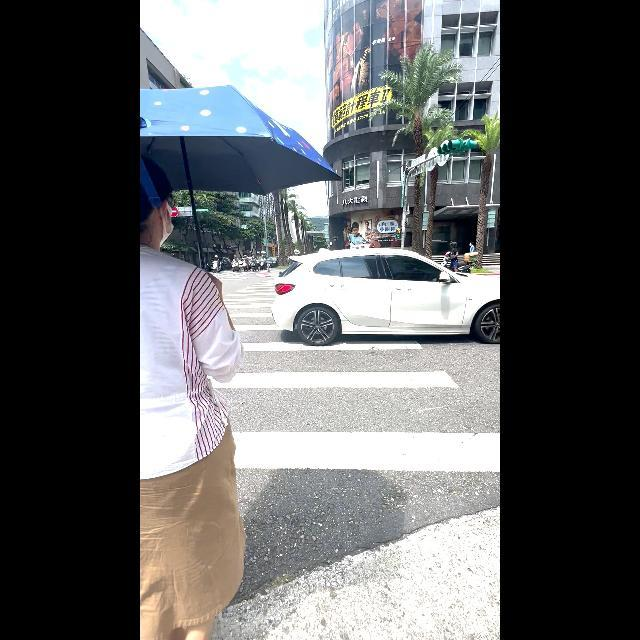sidewalk: (141, 273, 500, 472)
